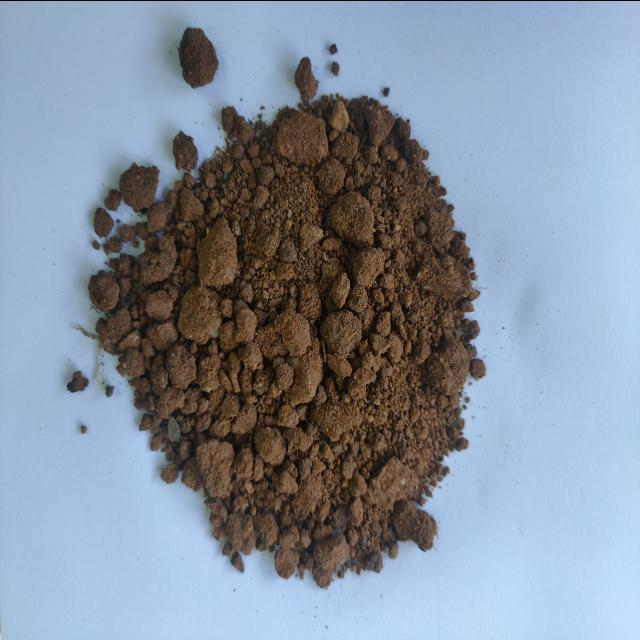soil: (198, 177, 422, 508)
